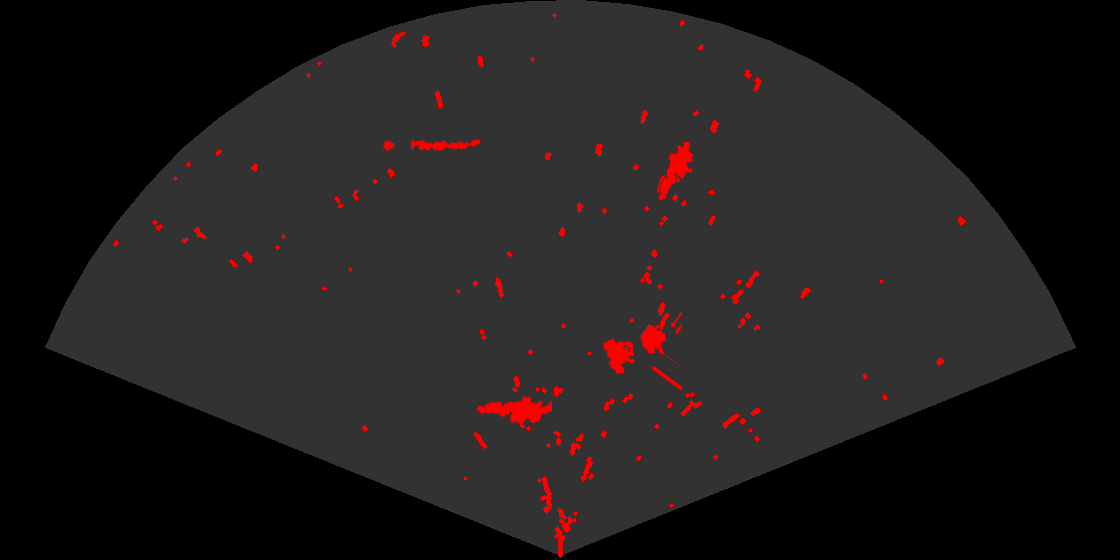cage: (602, 310, 682, 393)
chain: (382, 138, 482, 153)
frogman: (475, 395, 552, 430), (657, 142, 695, 203)
